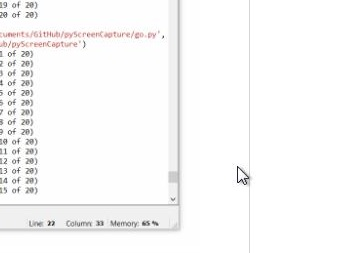cursor: (235, 164, 250, 186)
